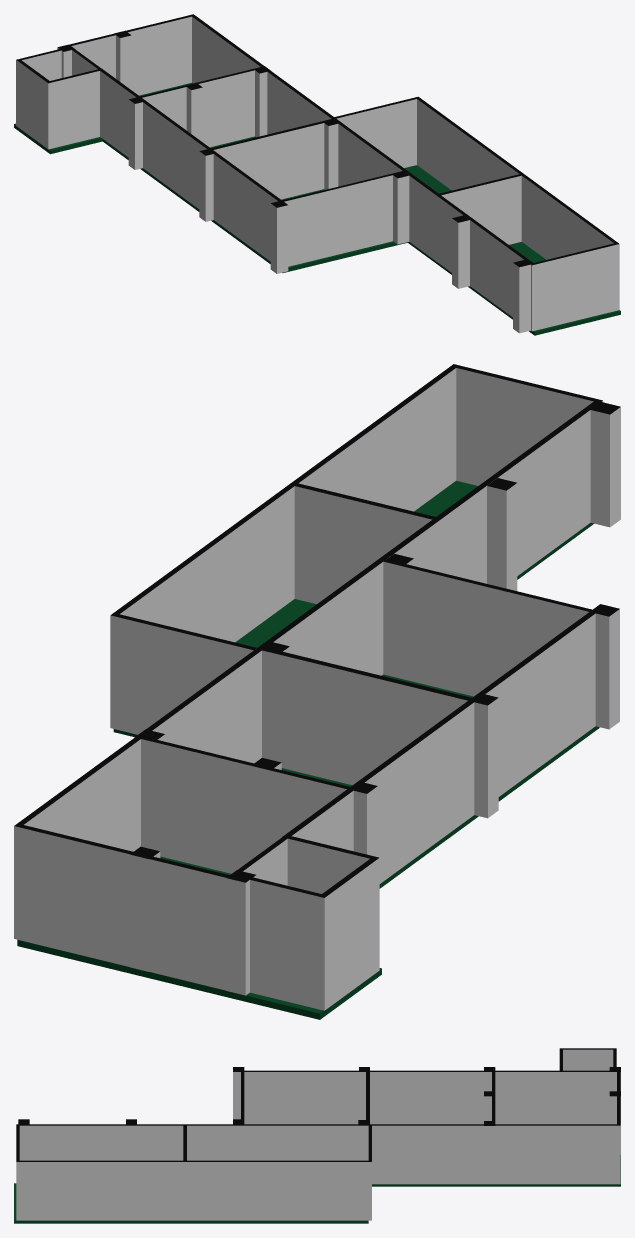
Rendered from soulbrain_T6-3-1B.glb.
The picture shows the model from 3 angles, top to bottom: view 1: azimuth 30°, elevation 25°; view 2: azimuth 150°, elevation 25°; view 3: azimuth 270°, elevation 25°; orthographic projection. The views are drawn at different scales.
Visible parts, largest first — view 1: Box222, Plane017; view 2: Box222, Plane017; view 3: Box222, Plane017.
Part boxes in pixels (x1,y1,x2,y2): Box222: [16, 14, 619, 333]; Plane017: [14, 83, 620, 335]; Box222: [14, 364, 620, 1010]; Plane017: [17, 480, 599, 1019]; Box222: [16, 1048, 620, 1220]; Plane017: [14, 1155, 620, 1223].
Bounding box in the file's own units: 15.04 × 3.8 × 33.88.
